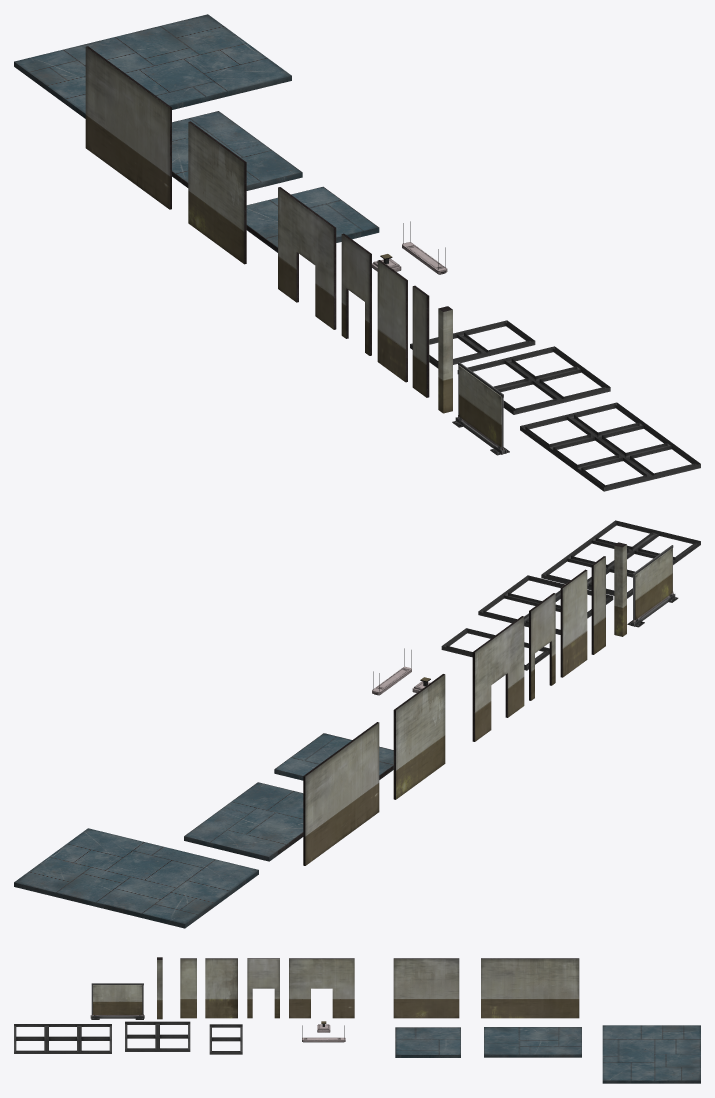
The model's file is Technical laboratory designer-V1_Room.FBX.
3 views of the same model, one above another, from view 1: azimuth 30°, elevation 25°; view 2: azimuth 150°, elevation 25°; view 3: azimuth 270°, elevation 25° (orthographic). The views are drawn at different scales.
Parts seen in each view (by area): view 1: floor_6-6, Wall_4-6, Wall_4-4, doorway_4-4, ceiling_2-6, floor_4-6, floor_4-4, Wall_2-4, Portable_wall, ceiling_2-2, doorway_2-4, Wall_1-4 (+2 smaller); view 2: floor_6-6, Wall_4-6, floor_4-6, Wall_4-4, doorway_4-4, Wall_2-4, Portable_wall, ceiling_2-6, floor_4-4, doorway_2-4, Wall_1-4, ceiling_2-2 (+2 smaller); view 3: Wall_4-6, floor_6-6, Wall_4-4, doorway_4-4, floor_4-6, floor_4-4, Wall_2-4, Portable_wall, ceiling_2-6, doorway_2-4, ceiling_2-2, Wall_1-4 (+3 smaller).
Part boxes in pixels (bbox=[...]): floor_6-6: bbox=[14, 14, 291, 118]; Wall_4-6: bbox=[85, 46, 171, 209]; Wall_4-4: bbox=[188, 121, 246, 264]; doorway_4-4: bbox=[278, 187, 336, 329]; ceiling_2-6: bbox=[520, 402, 700, 491]; floor_4-6: bbox=[172, 111, 302, 190]; floor_4-4: bbox=[246, 186, 379, 252]; Wall_2-4: bbox=[377, 260, 407, 382]; Portable_wall: bbox=[452, 362, 509, 455]; ceiling_2-2: bbox=[457, 346, 610, 414]; doorway_2-4: bbox=[341, 233, 371, 355]; Wall_1-4: bbox=[412, 285, 429, 397]; floor_6-6: bbox=[14, 828, 258, 928]; Wall_4-6: bbox=[303, 722, 379, 865]; floor_4-6: bbox=[184, 782, 303, 861]; Wall_4-4: bbox=[393, 674, 445, 799]; doorway_4-4: bbox=[472, 616, 524, 741]; Wall_2-4: bbox=[560, 569, 587, 677]; Portable_wall: bbox=[627, 545, 678, 627]; ceiling_2-6: bbox=[541, 520, 700, 598]; floor_4-4: bbox=[274, 733, 393, 780]; doorway_2-4: bbox=[529, 593, 555, 700]; Wall_1-4: bbox=[591, 556, 605, 654]; ceiling_2-2: bbox=[478, 575, 613, 634]; Wall_4-6: bbox=[481, 958, 579, 1018]; floor_6-6: bbox=[602, 1025, 700, 1083]; Wall_4-4: bbox=[393, 958, 459, 1018]; doorway_4-4: bbox=[289, 958, 354, 1018]; floor_4-6: bbox=[484, 1027, 581, 1057]; floor_4-4: bbox=[395, 1027, 460, 1057]; Wall_2-4: bbox=[205, 958, 237, 1018]; Portable_wall: bbox=[90, 983, 144, 1019]; ceiling_2-6: bbox=[14, 1024, 111, 1053]; doorway_2-4: bbox=[247, 958, 279, 1018]; ceiling_2-2: bbox=[125, 1021, 190, 1051]; Wall_1-4: bbox=[180, 958, 196, 1018].
Bounding box in the file's own units: 9.58 × 4.1 × 41.97.
2 materials, 2 textured.
